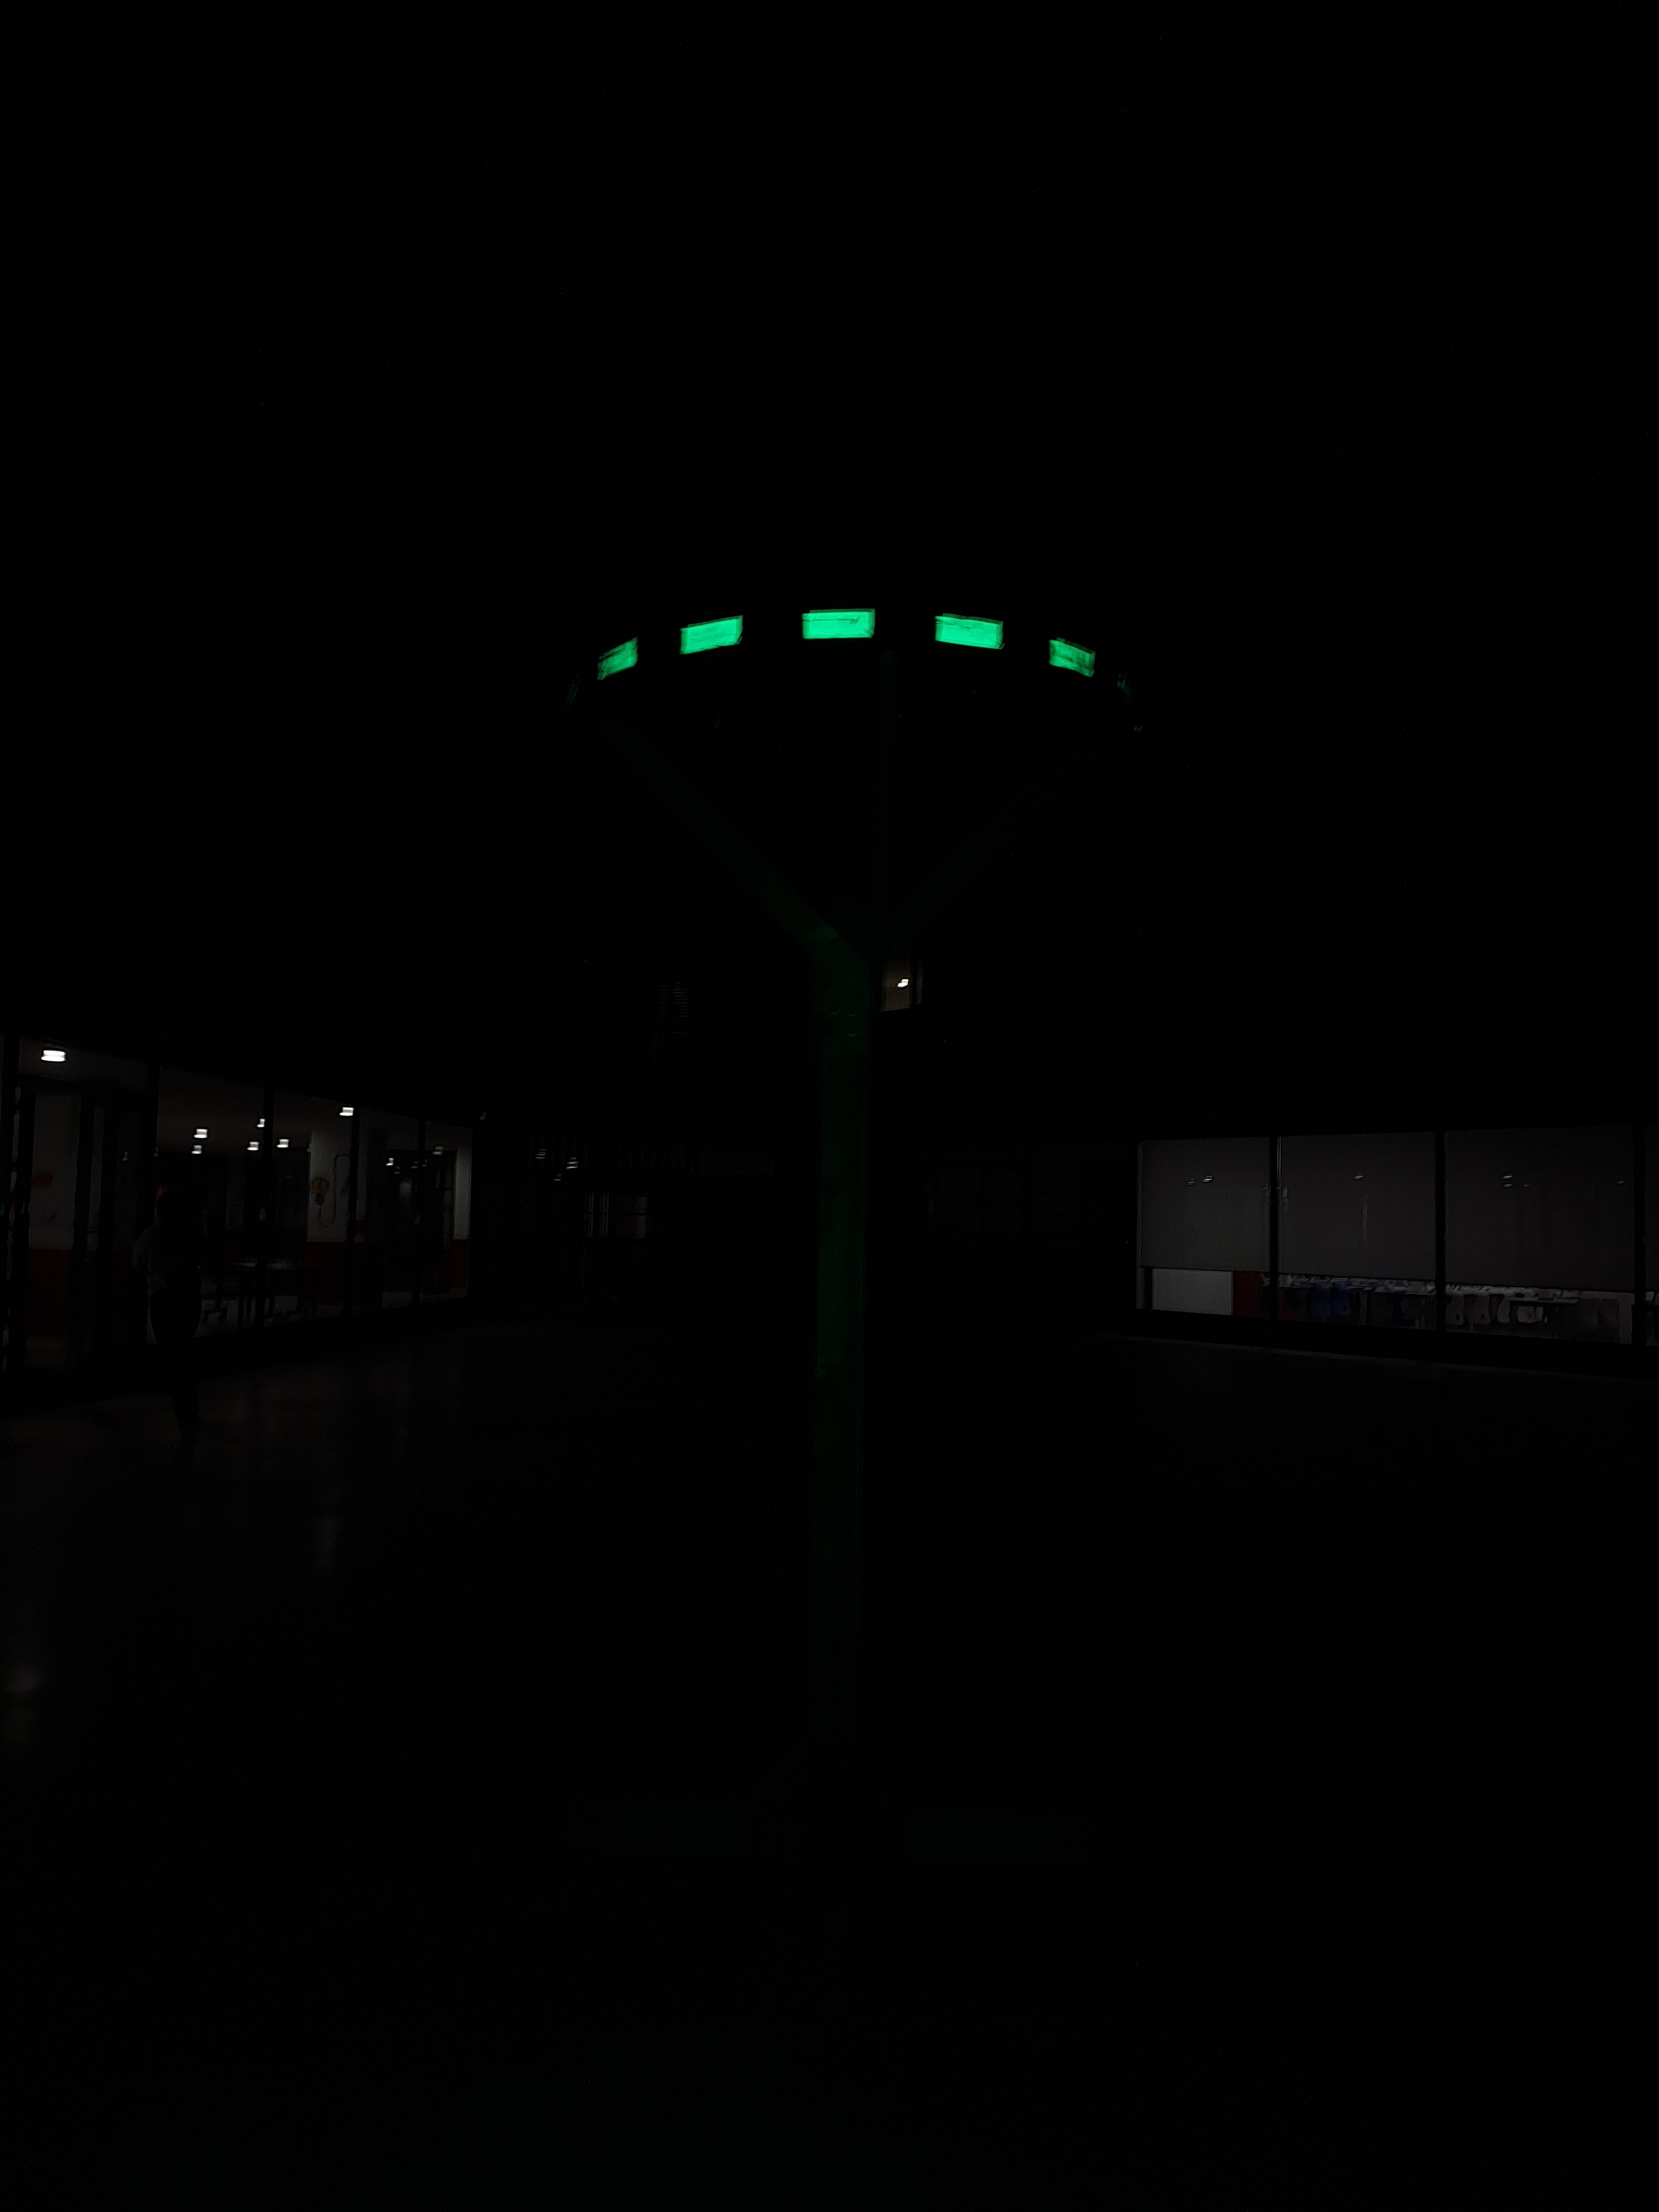hoop: (587, 604, 1101, 700)
